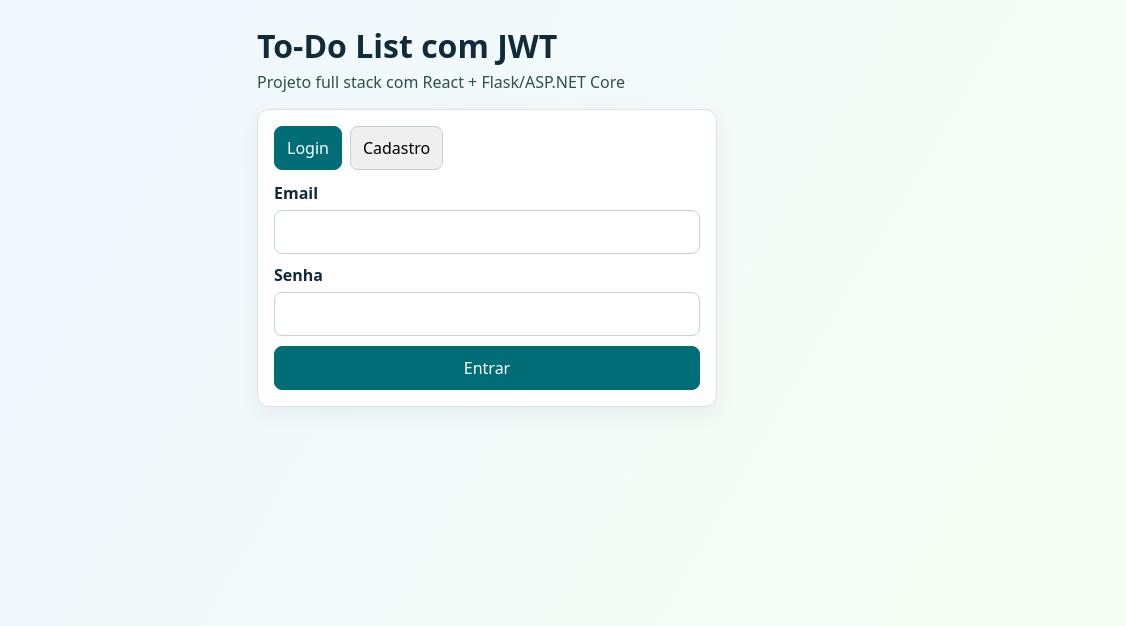
it: App › faz login e carrega tarefas
The image size is (1126, 626).
Type "maria@example.com" into the field labelled "Email".
click(487, 232); type("maria@example.com")  # box [274,210,700,254]
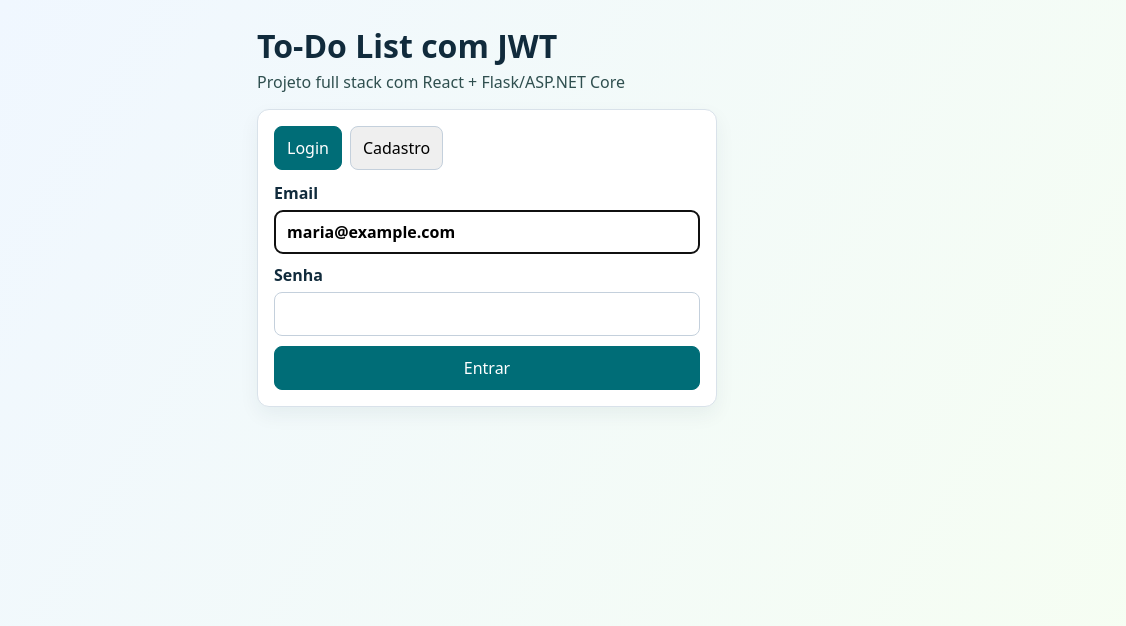
Type "123456" into the password field labelled "Senha".
click(487, 314); type("123456")  # box [274,292,700,336]
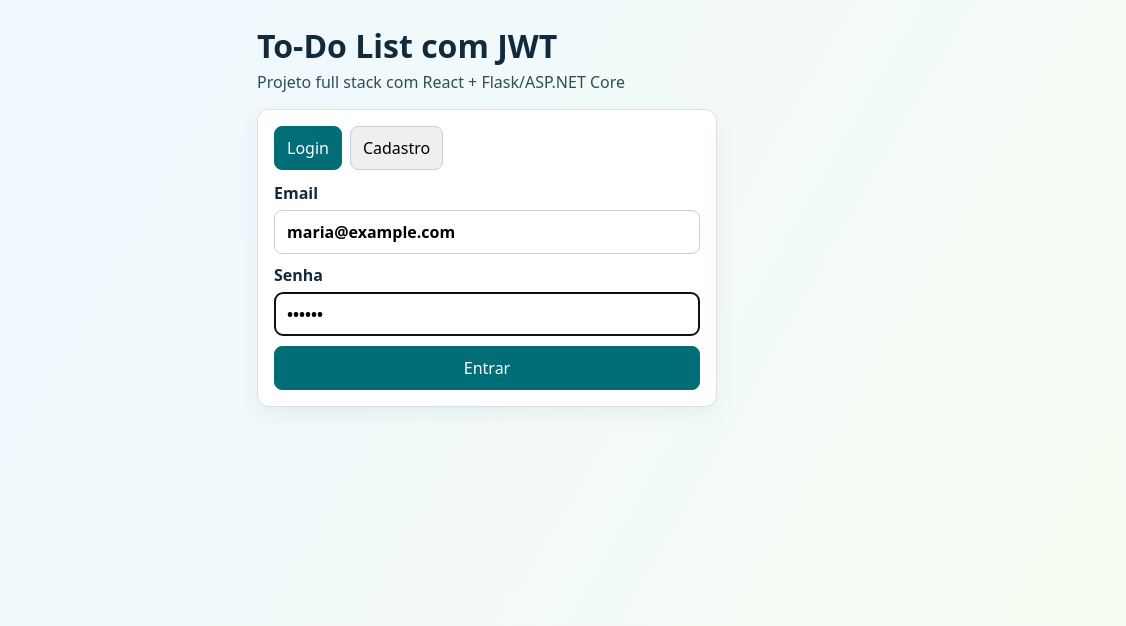
Click the button "Entrar".
click(487, 368)  # box [274,346,700,390]
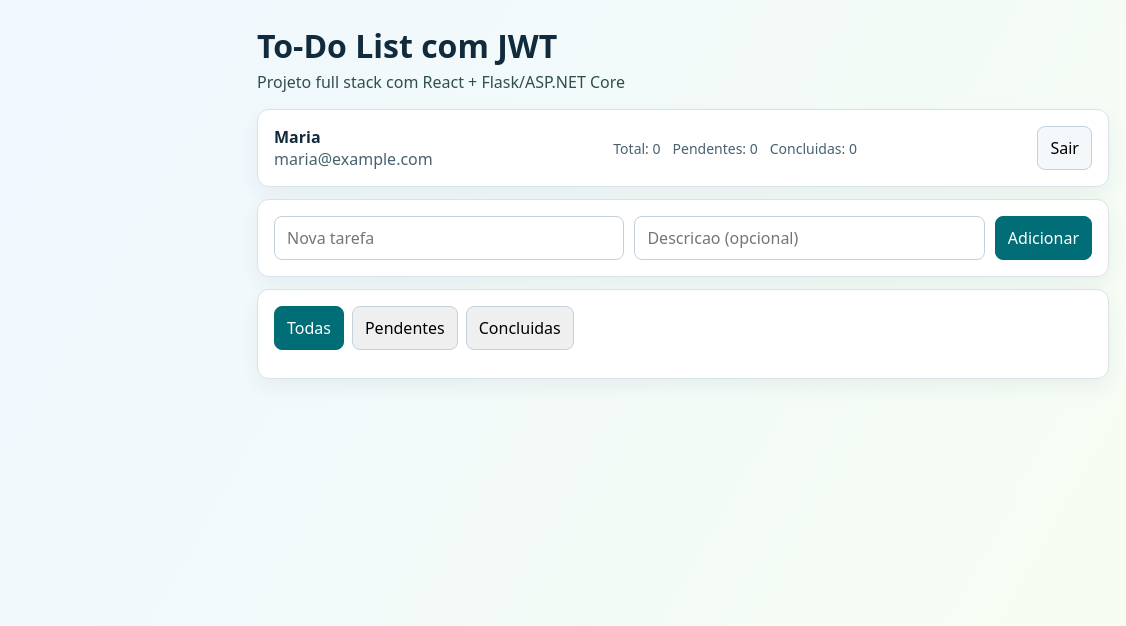
Check: the text "maria@example.com" is shown, box [274,148,433,170]
